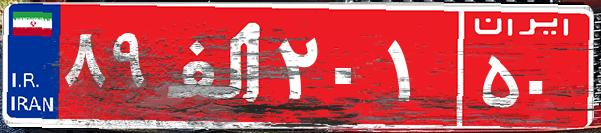0: (330, 28, 385, 110), (525, 38, 570, 115)
1: (385, 28, 445, 110)
2: (273, 28, 330, 110)
5: (475, 38, 525, 113)
8: (57, 26, 110, 107)
9: (110, 28, 158, 105)
الف: (158, 15, 273, 115)
